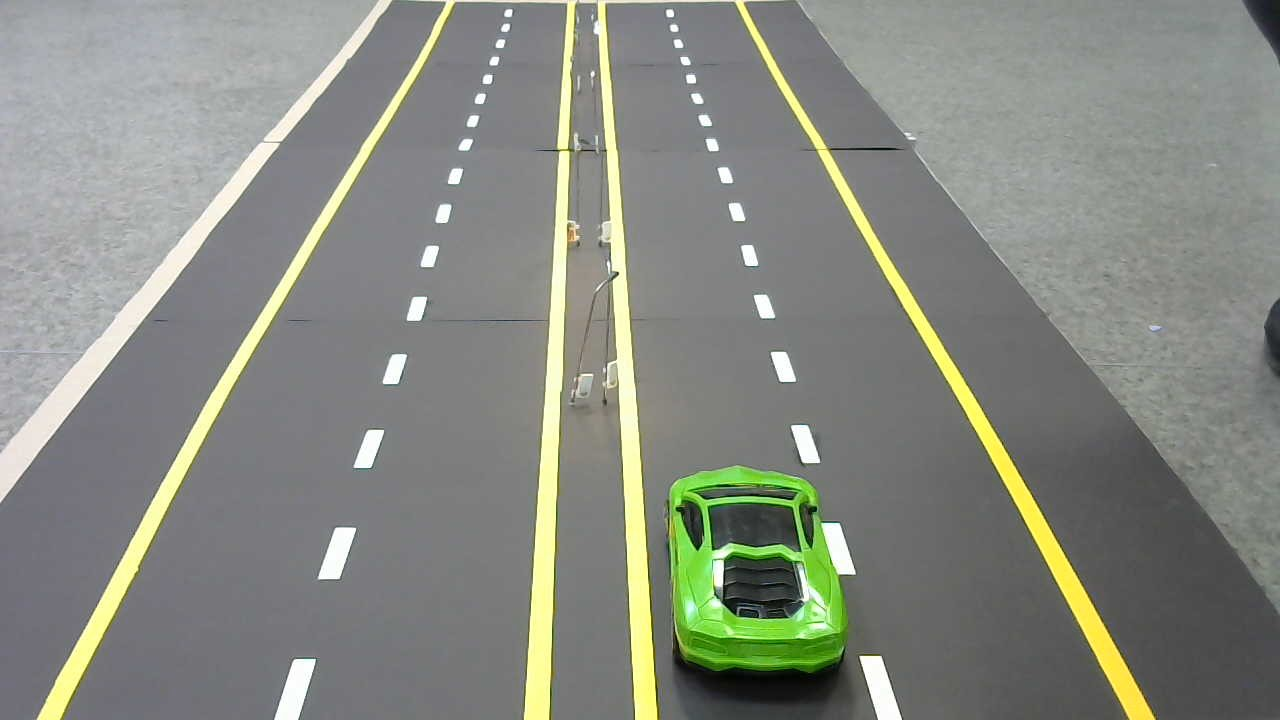back_car: (653, 458, 856, 683)
